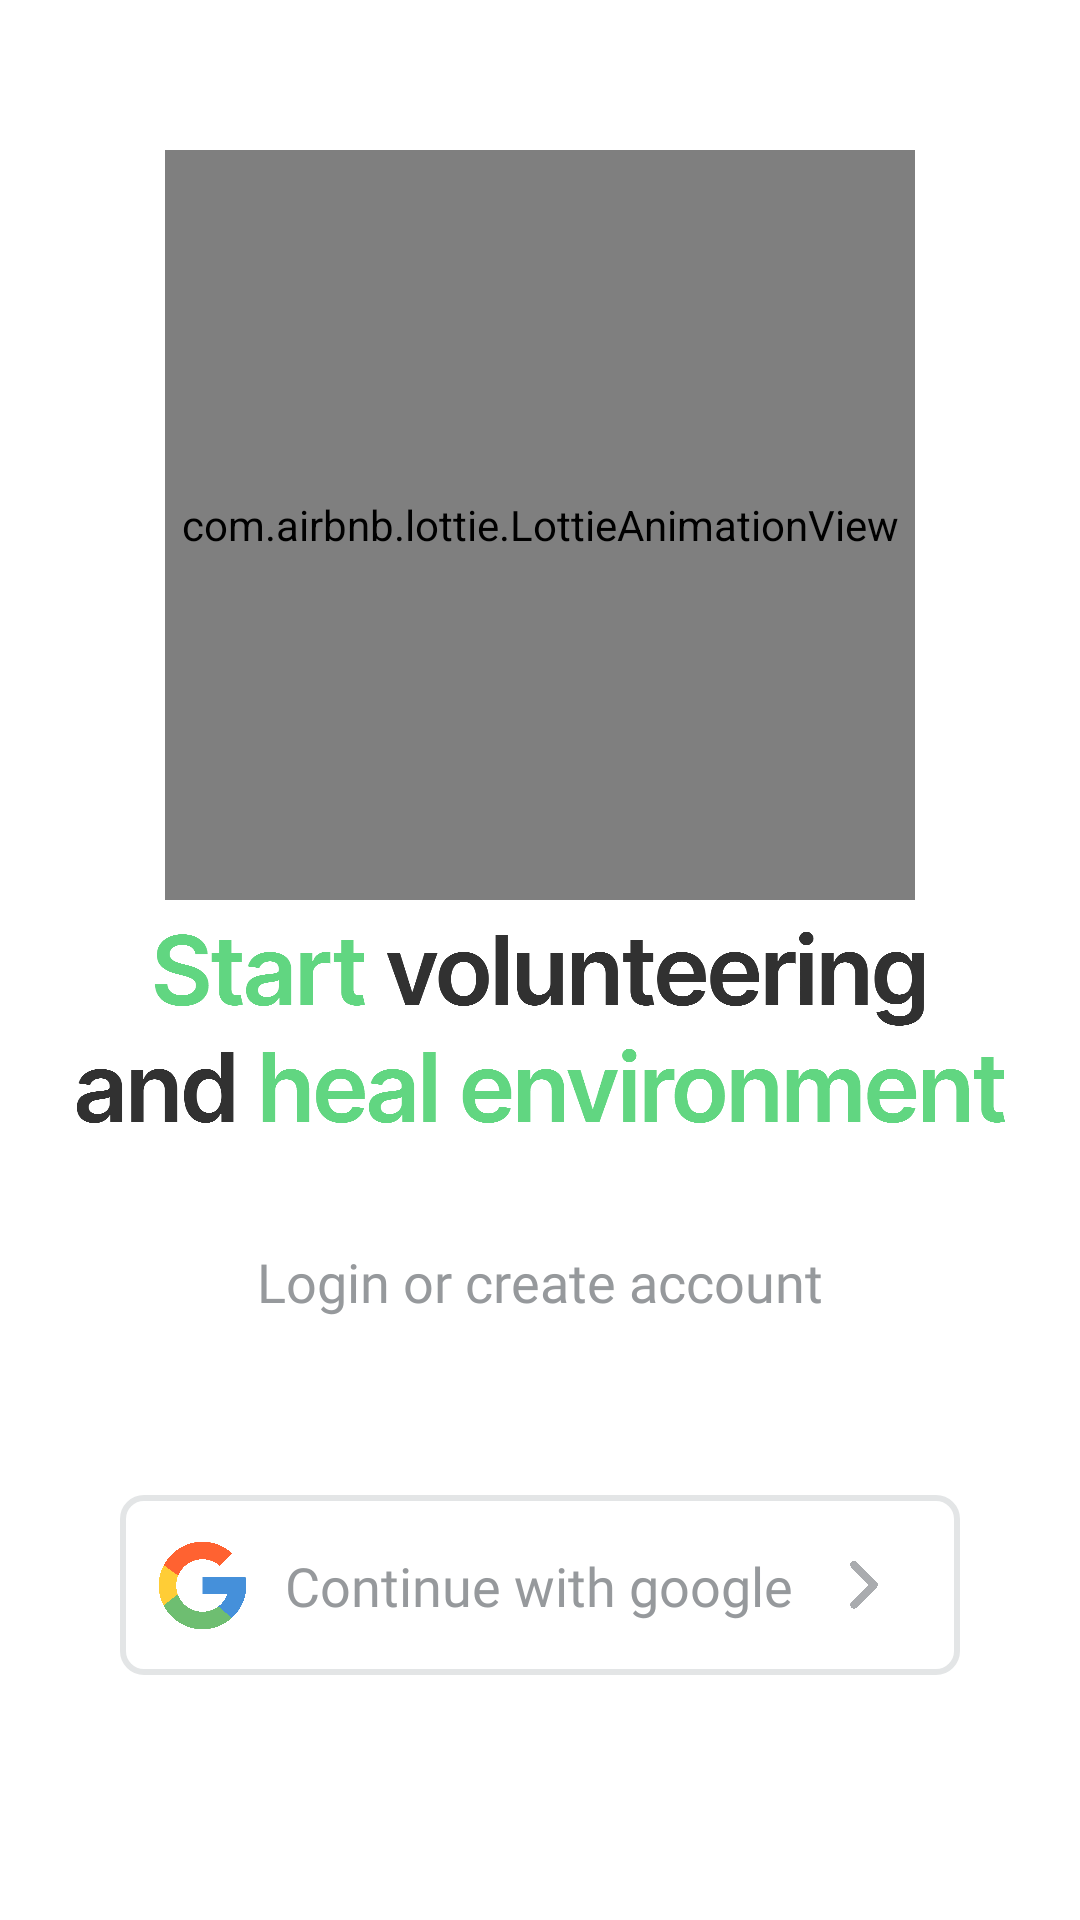

Where icons sit on this 1080 × 1920 app screen, as region(x1, y1, x2, y2):
right arrow: region(850, 1561, 878, 1609)
